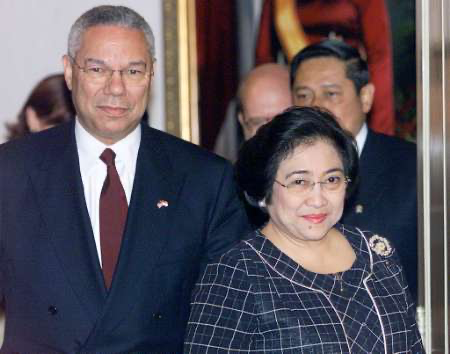Face: (63, 38, 146, 137), (271, 158, 353, 248), (290, 65, 365, 139), (236, 92, 300, 143)
